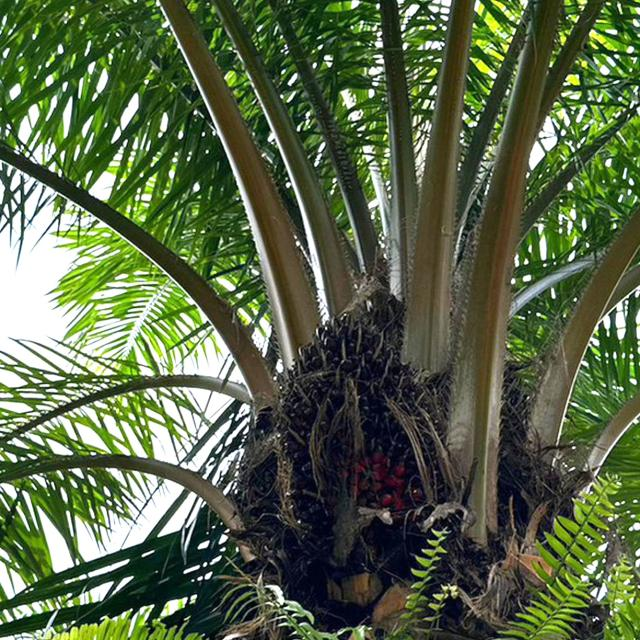ripe: (260, 293, 450, 552)
